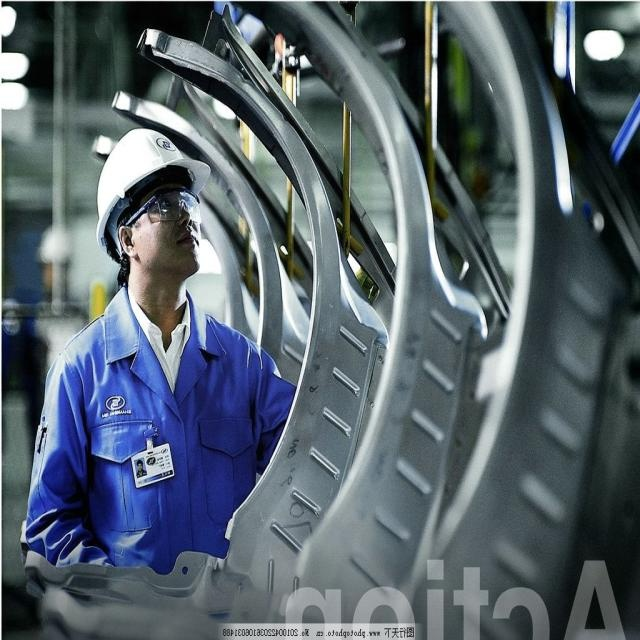Con_Casco: (97, 124, 210, 280)
